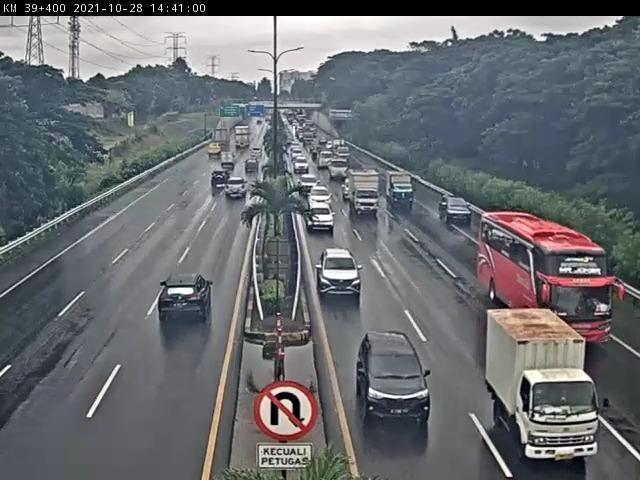bus: (480, 211, 615, 352)
car: (355, 330, 432, 425), (157, 275, 217, 325), (317, 248, 363, 299), (439, 194, 473, 225), (305, 202, 335, 234), (224, 176, 250, 198), (210, 170, 233, 188)
truck: (486, 308, 601, 463), (350, 169, 381, 214), (386, 170, 416, 209)
